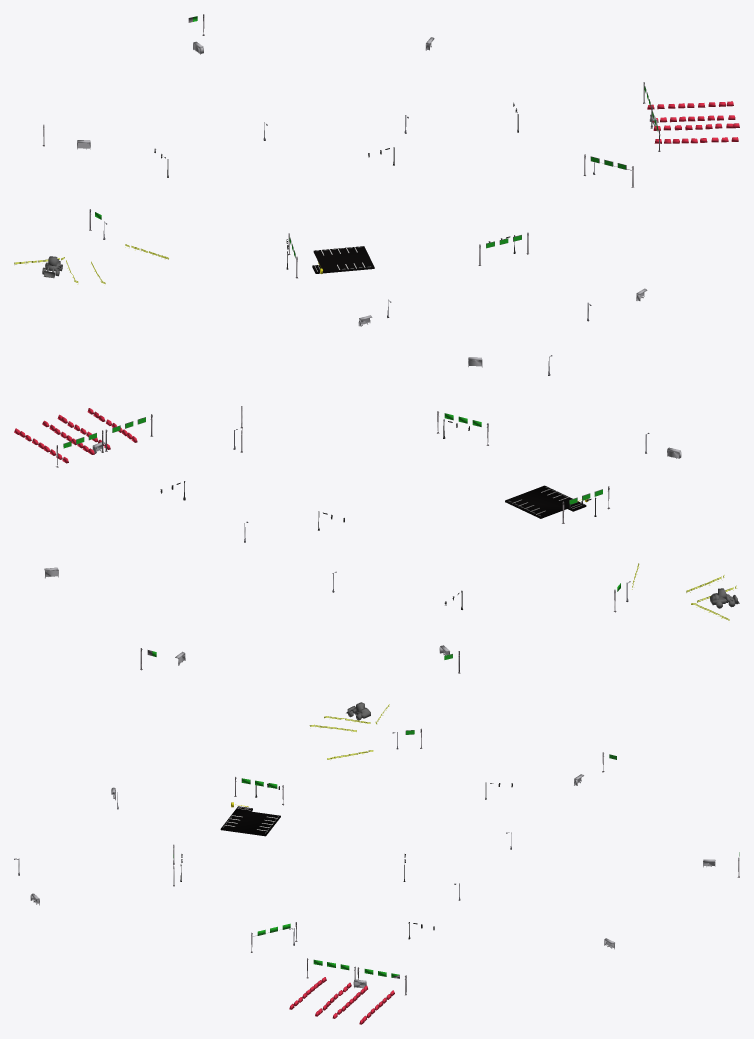
File: roaddetails.glb
The picture shows the model from 3 angles, top to bottom: view 1: azimuth 30°, elevation 25°; view 2: azimuth 150°, elevation 25°; view 3: azimuth 270°, elevation 25°; orthographic projection. The views are drawn at different scales.
Visible parts, largest first — view 1: Bulldozer.003; view 2: Bulldozer.003; view 3: Bulldozer.003.
Part boxes in pixels (<box>): Bulldozer.003: <box>14,14,739,326</box>; Bulldozer.003: <box>14,355,739,673</box>; Bulldozer.003: <box>14,702,739,1024</box>.
Size of the model in its own units: 2405 by 75.88 by 2317.
Materials: 1 (1 with a texture image).
